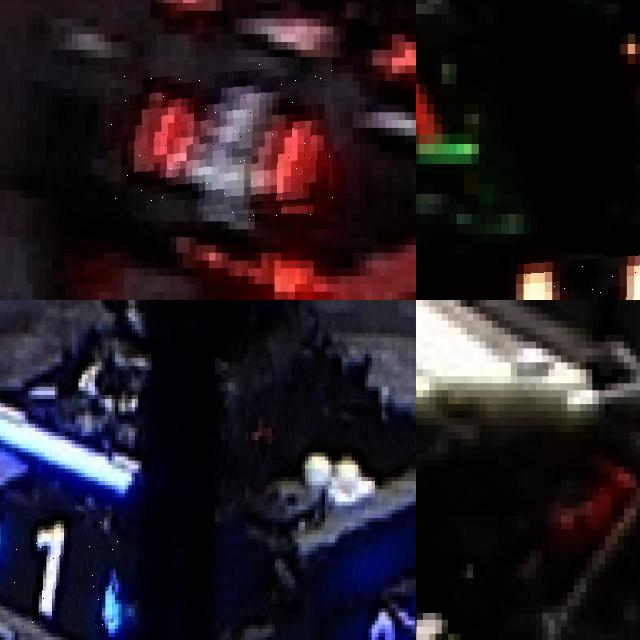B1: (0, 510, 118, 633)
R4: (105, 58, 333, 222)
Rs: (523, 254, 640, 300)
